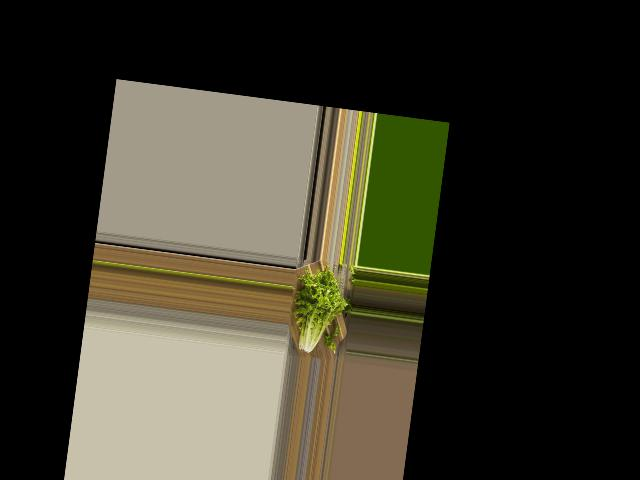lettuce: (287, 266, 350, 361)
